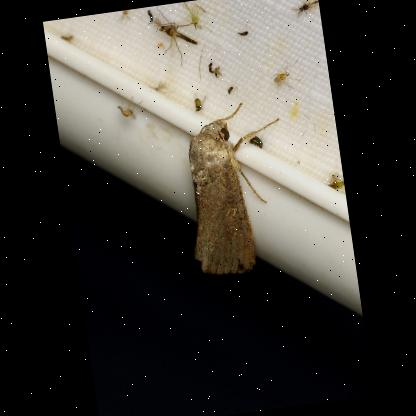Fall Armyworm Moth: (169, 96, 301, 284)
